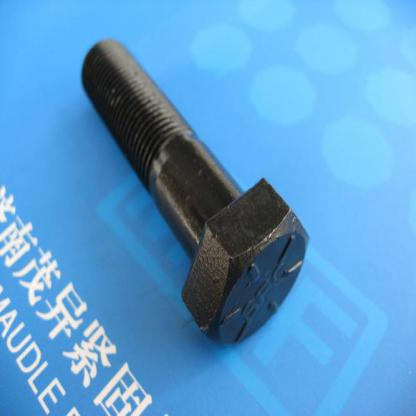FOD: (78, 35, 310, 350)
